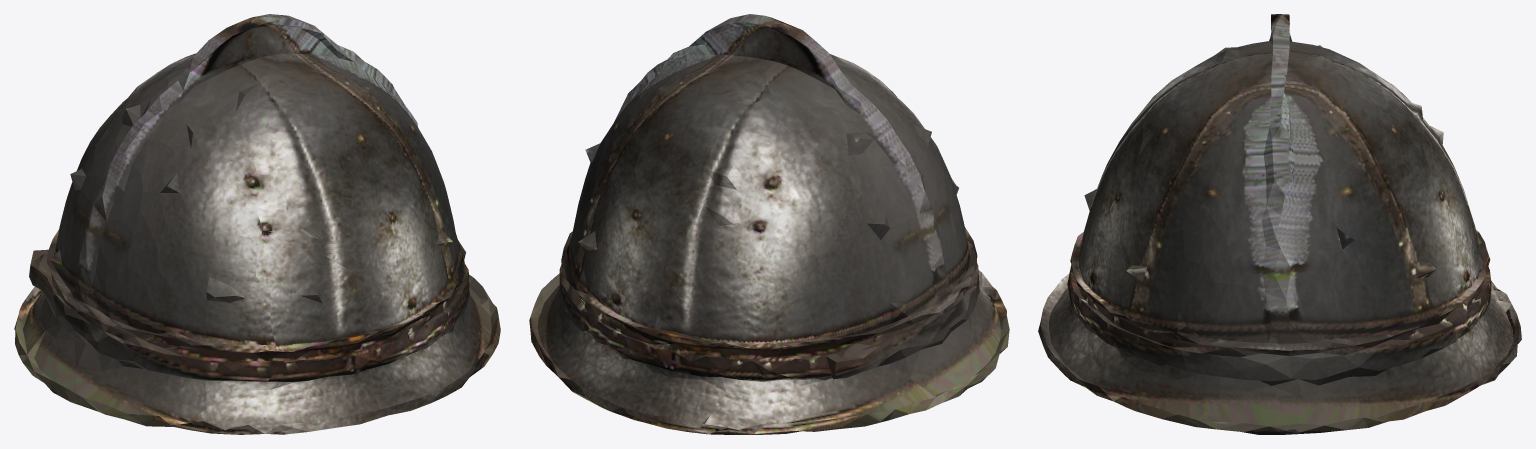
Rendered from h_kettle.glb.
3 renders of one model, left to right at view 1: azimuth 30°, elevation 25°; view 2: azimuth 150°, elevation 25°; view 3: azimuth 270°, elevation 25°, orthographic.
Parts seen in each view (by area): view 1: geometry_0; view 2: geometry_0; view 3: geometry_0.
Boxes of the visible parts, bbox=[...] form: geometry_0: bbox=[14, 14, 500, 434]; geometry_0: bbox=[529, 14, 1009, 434]; geometry_0: bbox=[1038, 14, 1521, 434].
Bounding box in the file's own units: 0.327 × 0.24 × 0.3279.
1 material, 1 textured.
